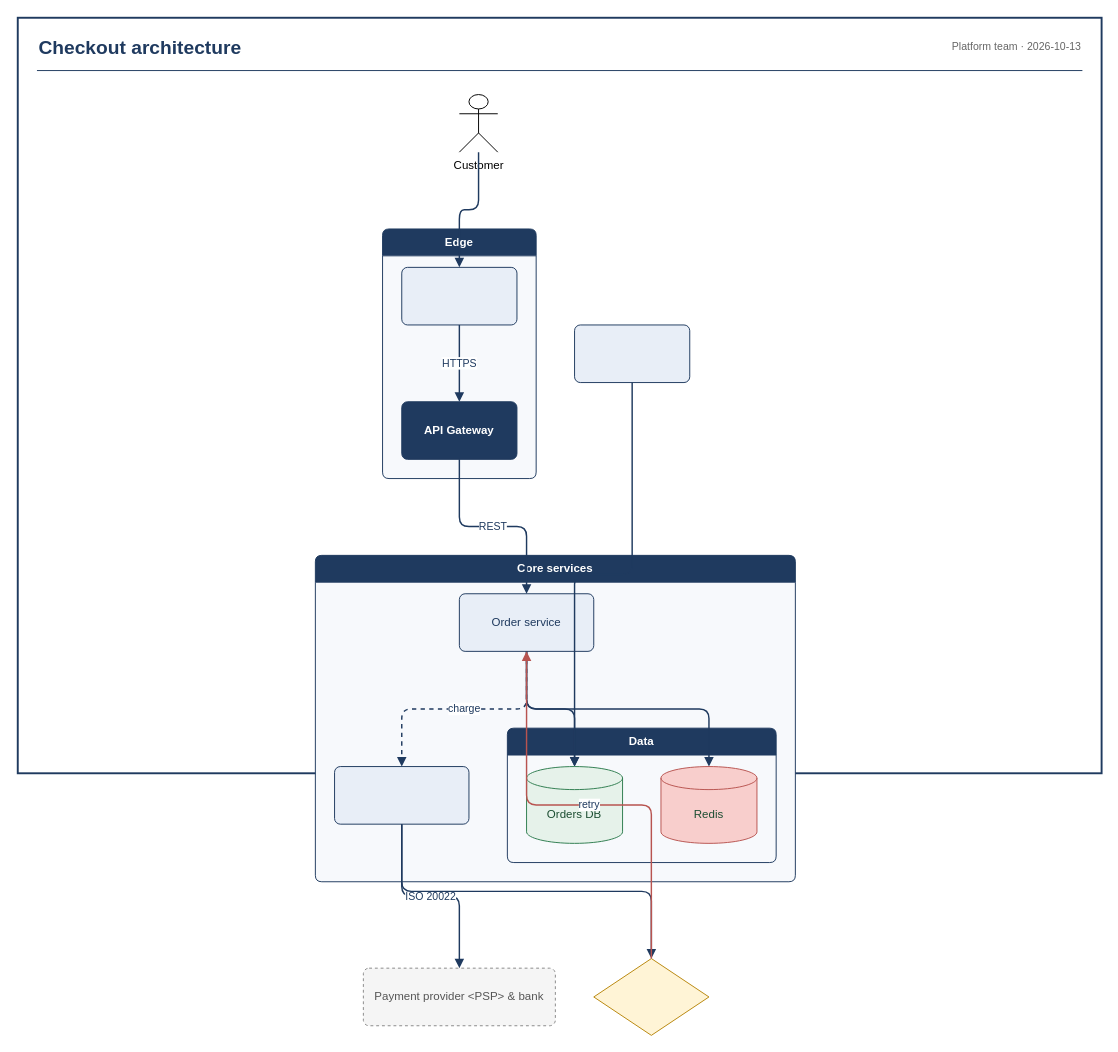
This 1118x1052 diagram has some shape labels left out. The shapes that lost their labels are listed below. From the top down, each one's centre as x and y in pixels, then its label:
At pixel 459 295: "CDN".
At pixel 632 353: "nope".
At pixel 401 795: "Payment service".
At pixel 651 996: "Paid?".
